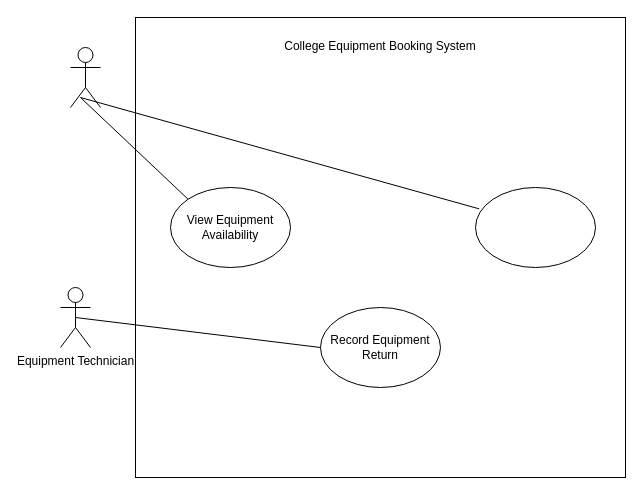
Some shapes in this 643 by 495 pixel diagram are drawn without their labels. Each missing label, with the centre of its shape:
"Create Booking" goes at [535,227].
"Student" goes at [85,77].
